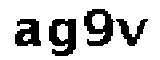9: (81, 8, 118, 49)
a: (15, 17, 44, 50)
g: (45, 15, 79, 60)
v: (116, 15, 149, 48)
